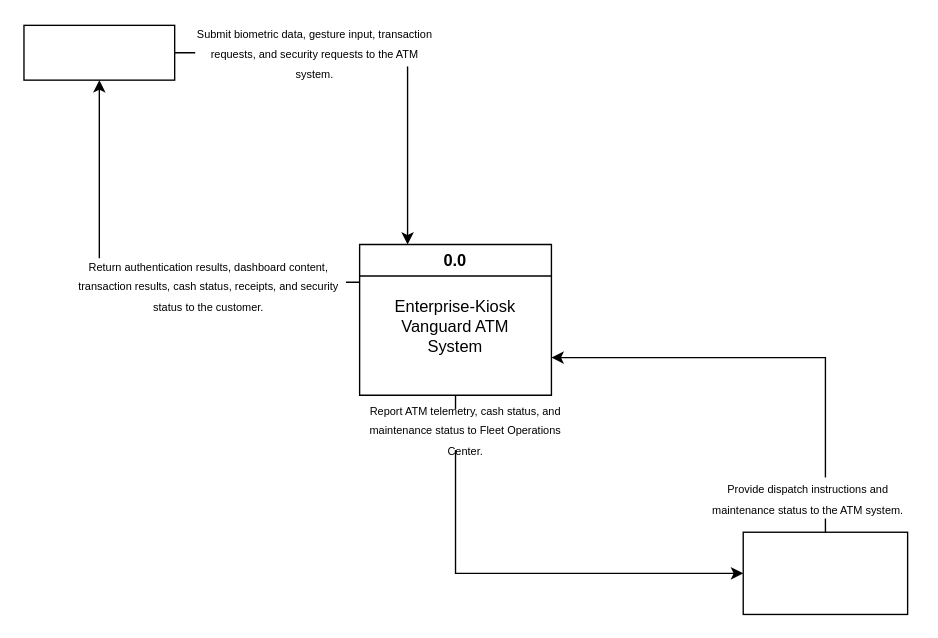
The diagram is 938 pixels wide and 638 high, and some of its shapes have lost their labels. Here are the shapes that lost their labels. From the top down, the centre of each, then its label:
At point (99, 52): "Customer".
At point (825, 572): "Operations Team".
